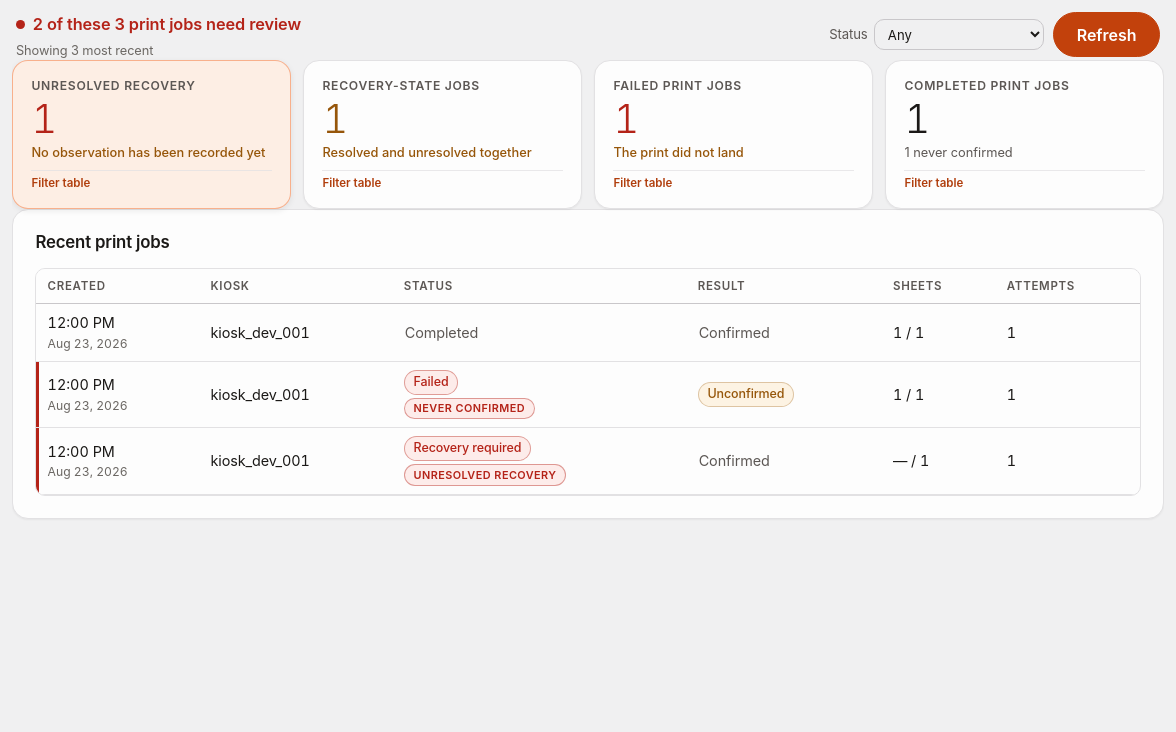
Printing › filters to unresolved recoveries on the server and keeps the dropdown synchronized
This screenshot has width=1176, height=732.
Click the button with aria-label "Unresolved recovery: 1." at (113, 86), box [13,62,290,208]
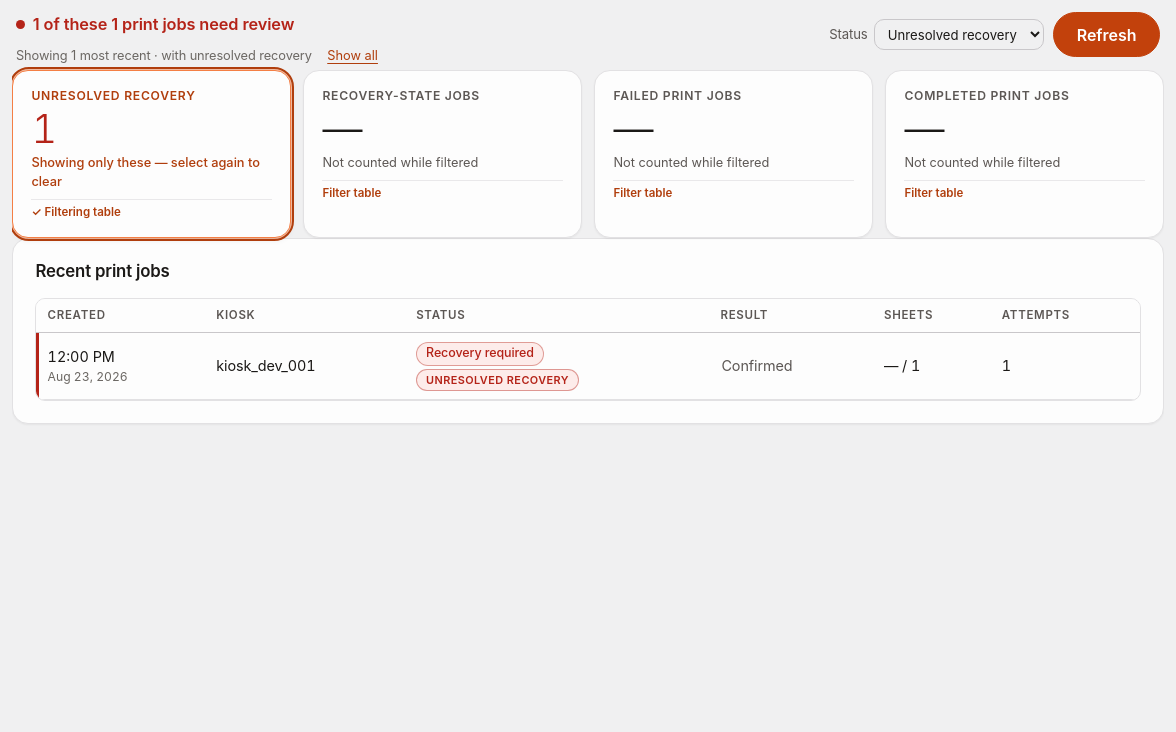
Expected: the button with aria-label "Recovery required, created" is shown, [48,346,194,386]
Now the dropdown labelled "Status" shows "Unresolved recovery", box [874,19,1044,50]
